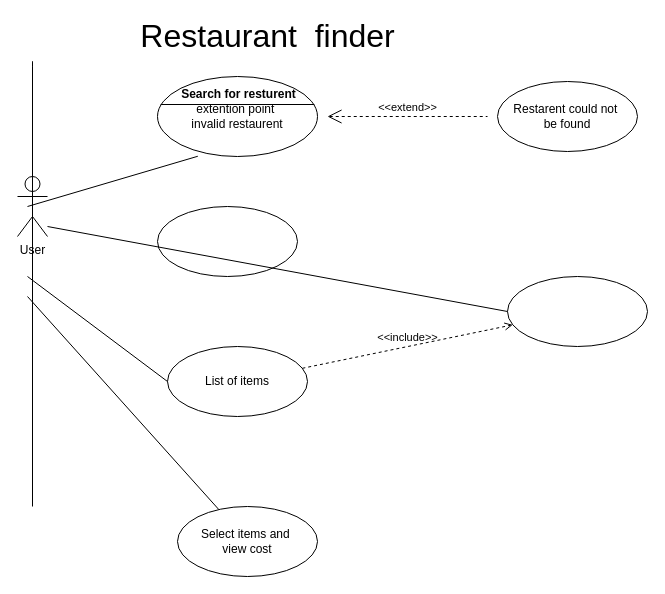
Image size: 665x594. Some labels were removed from this diagram. Each missing label, with the centre of its shape:
Get menu: the point at 577,311
view restaurant name,status ,timing and Location: the point at 227,241
